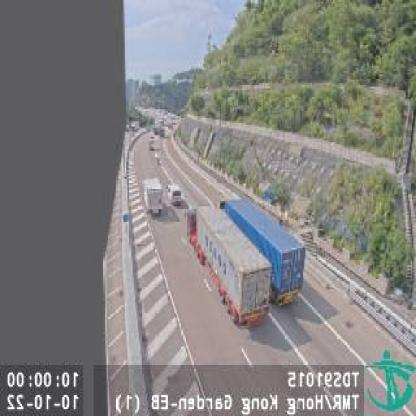Car: (167, 184, 182, 207)
Truck: (186, 206, 272, 329), (218, 198, 305, 306), (142, 179, 162, 218)
